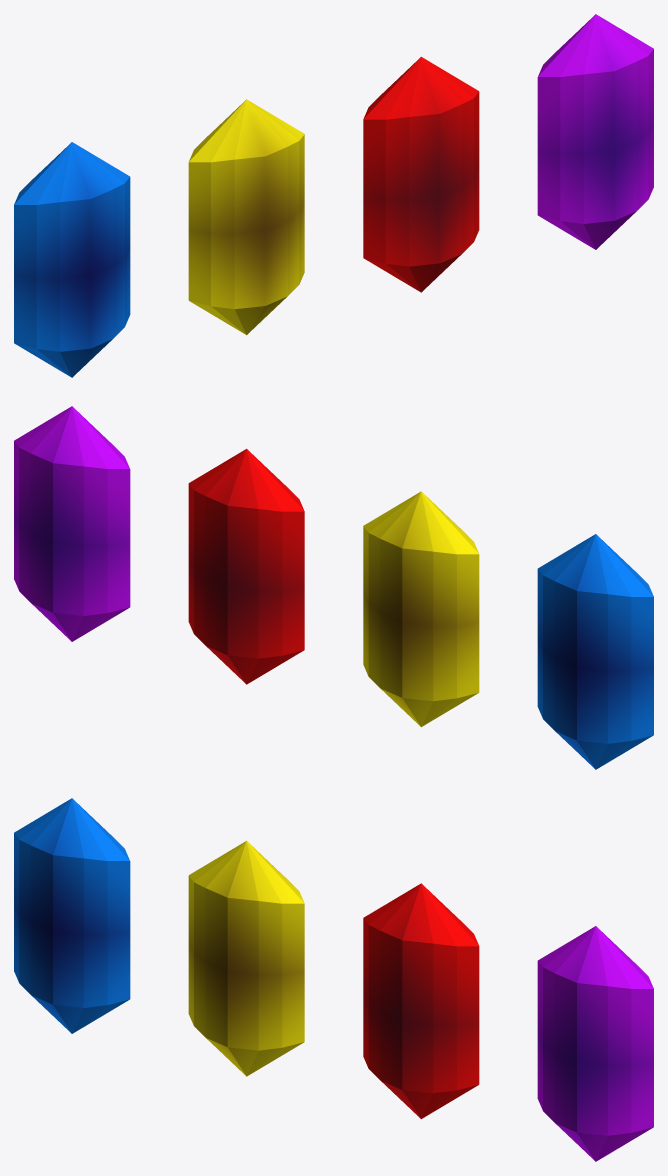
File: 硬幣v1.fbx
3 views of the same model, one above another, from view 1: azimuth 30°, elevation 25°; view 2: azimuth 150°, elevation 25°; view 3: azimuth 330°, elevation 25° (orthographic).
Parts seen in each view (by area): view 1: 硬幣紅, 硬幣黃, 硬幣紫, 硬幣藍; view 2: 硬幣紅, 硬幣黃, 硬幣紫, 硬幣藍; view 3: 硬幣紅, 硬幣黃, 硬幣紫, 硬幣藍.
Part boxes in pixels (x1,y1,x2,y2): 硬幣紅: (363,56,479,292); 硬幣黃: (188,99,304,335); 硬幣紫: (537,14,653,249); 硬幣藍: (14,142,130,377); 硬幣紅: (188,448,304,684); 硬幣黃: (363,491,479,727); 硬幣紫: (14,406,130,641); 硬幣藍: (537,534,653,769); 硬幣紅: (363,883,479,1119); 硬幣黃: (188,840,304,1076); 硬幣紫: (537,926,653,1161); 硬幣藍: (14,798,130,1033).
Size of the model in its own units: 1443 by 508 by 148.
Materials: 1 (1 with a texture image).
